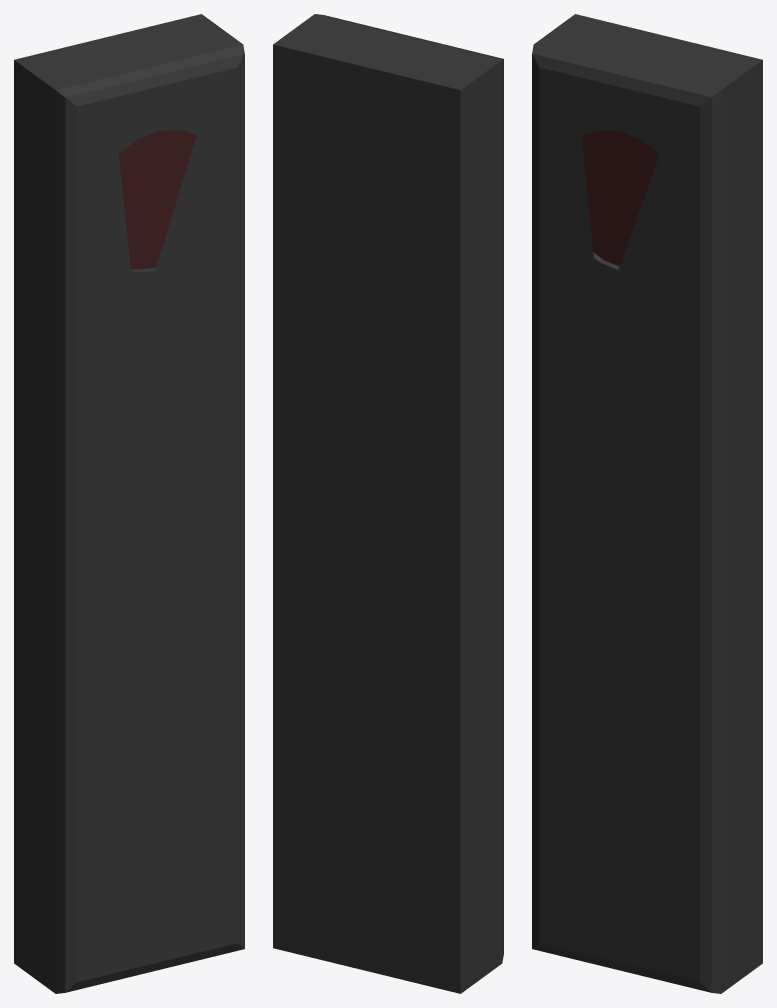
File: Speaker.fbx
3 renders of one model, left to right at view 1: azimuth 30°, elevation 25°; view 2: azimuth 150°, elevation 25°; view 3: azimuth 330°, elevation 25°, orthographic.
Parts seen in each view (by area): view 1: Cube, Cube.001; view 2: Cube; view 3: Cube, Cube.001.
Boxes of the visible parts, <box> form: Cube: <box>14,14,244,993</box>; Cube.001: <box>118,130,196,269</box>; Cube: <box>273,14,503,993</box>; Cube: <box>532,14,762,993</box>; Cube.001: <box>581,130,659,266</box>.
Size of the model in its own units: 34.94 by 161 by 15.94.
